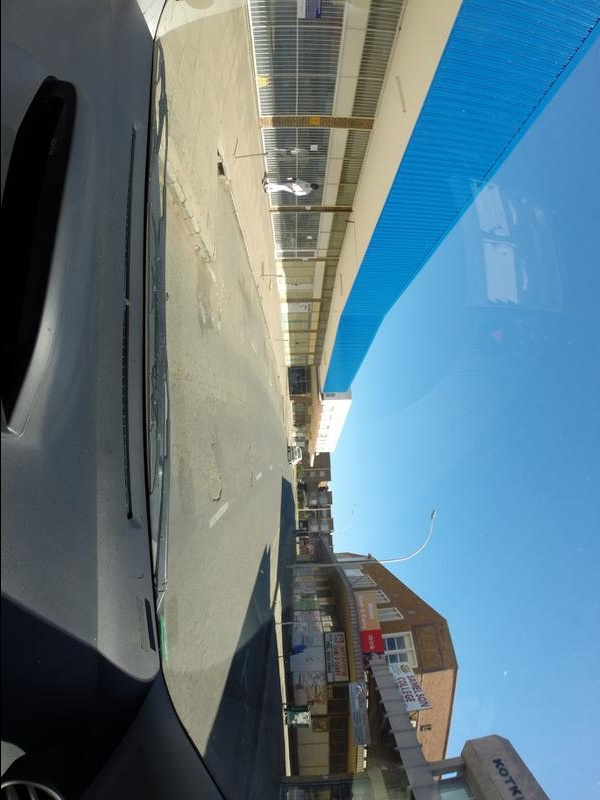pothole: (200, 437, 229, 506), (241, 443, 258, 493)
